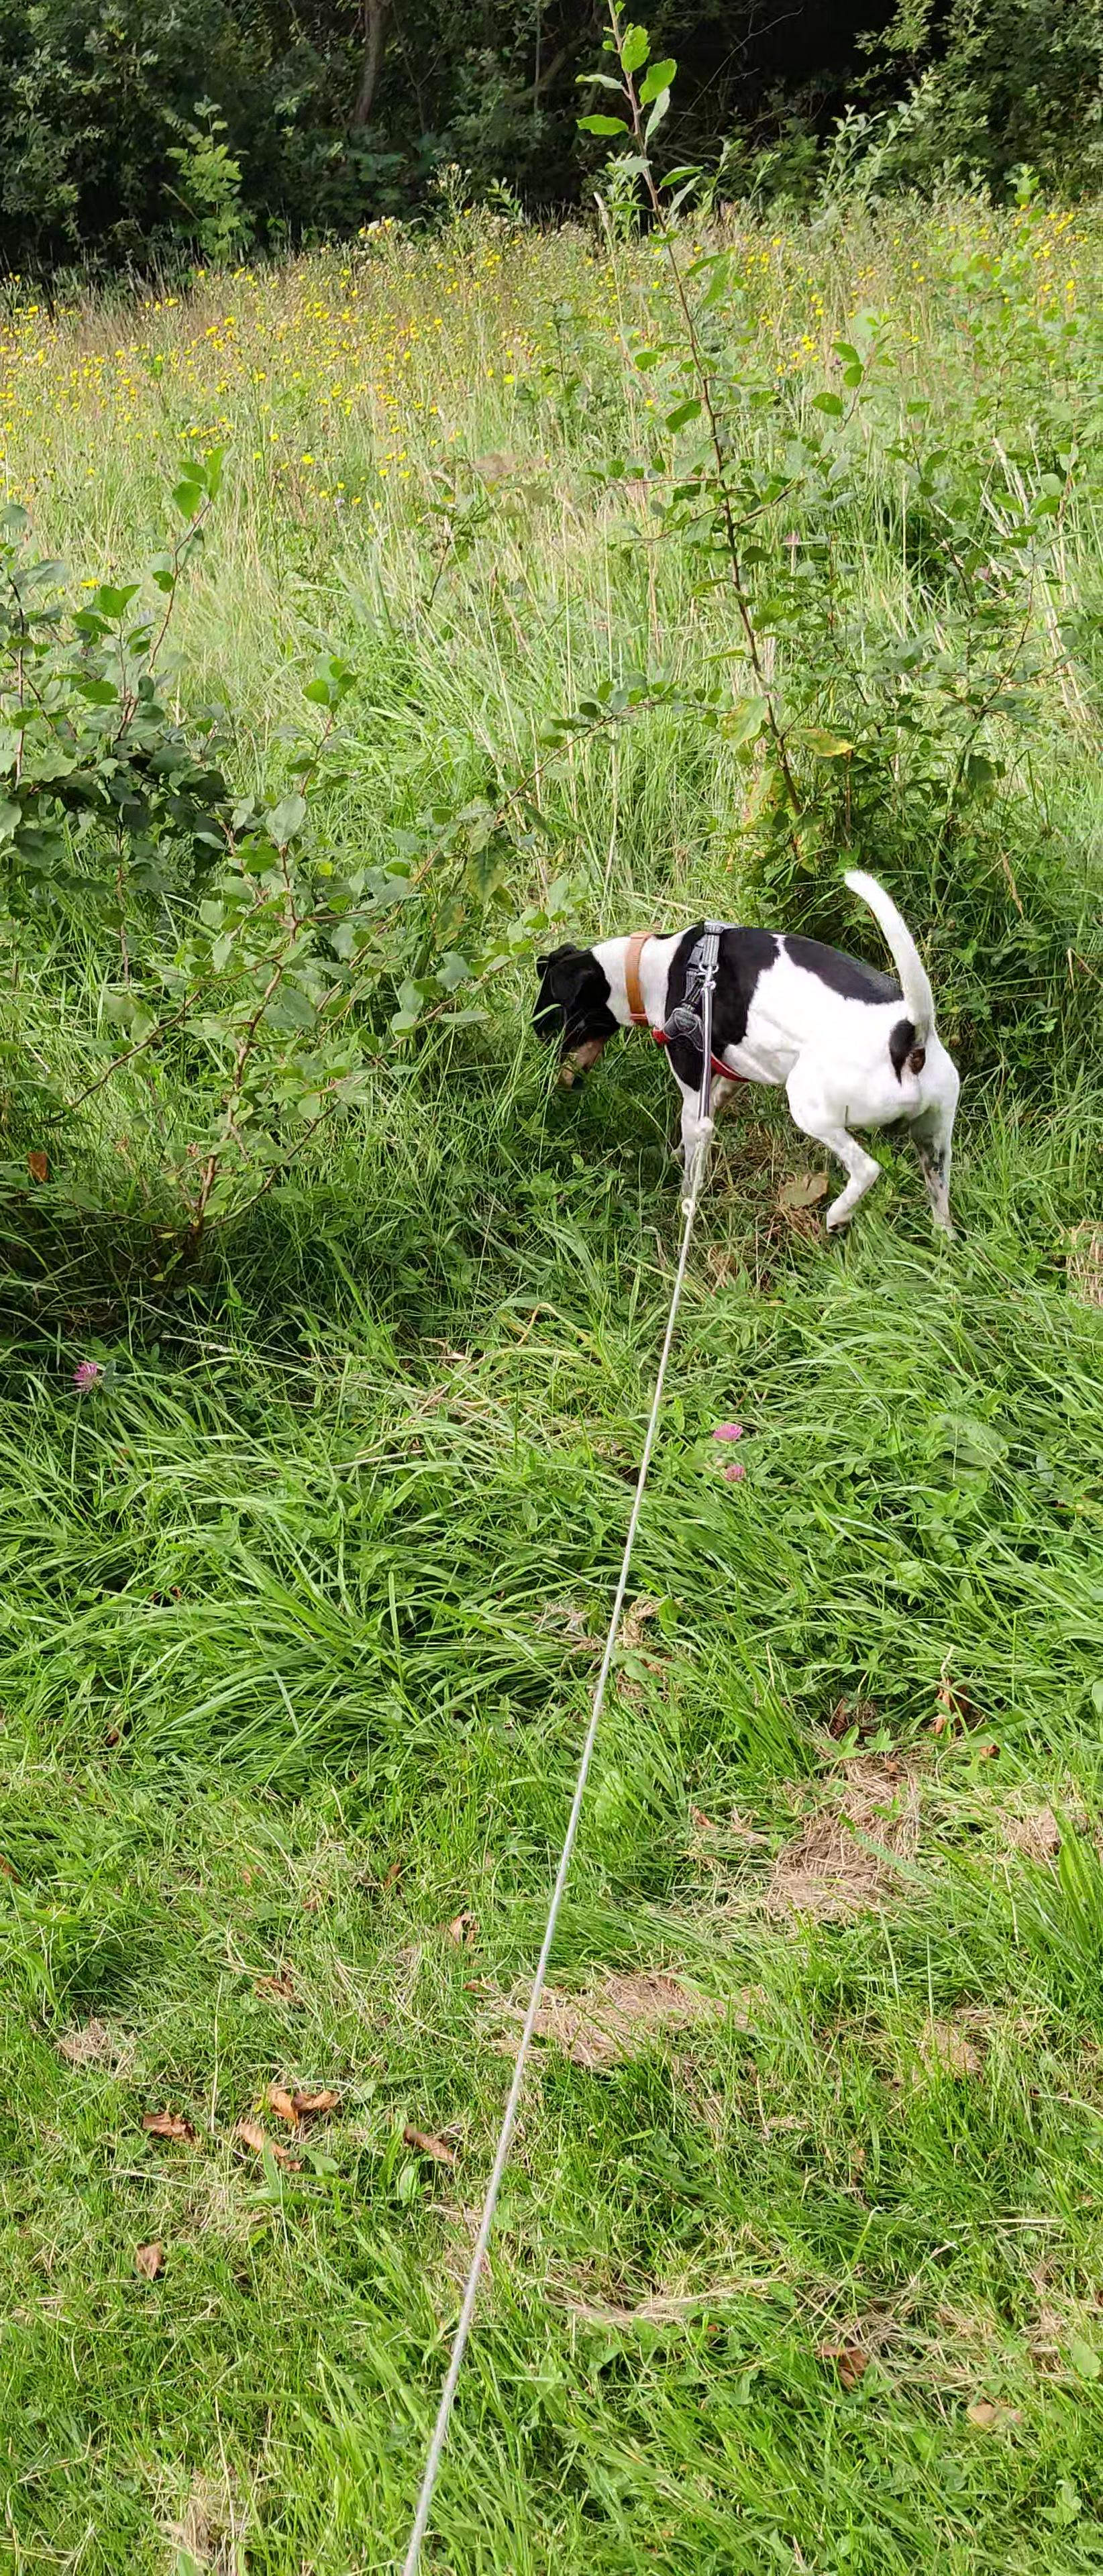Dog: (523, 853, 973, 1273)
